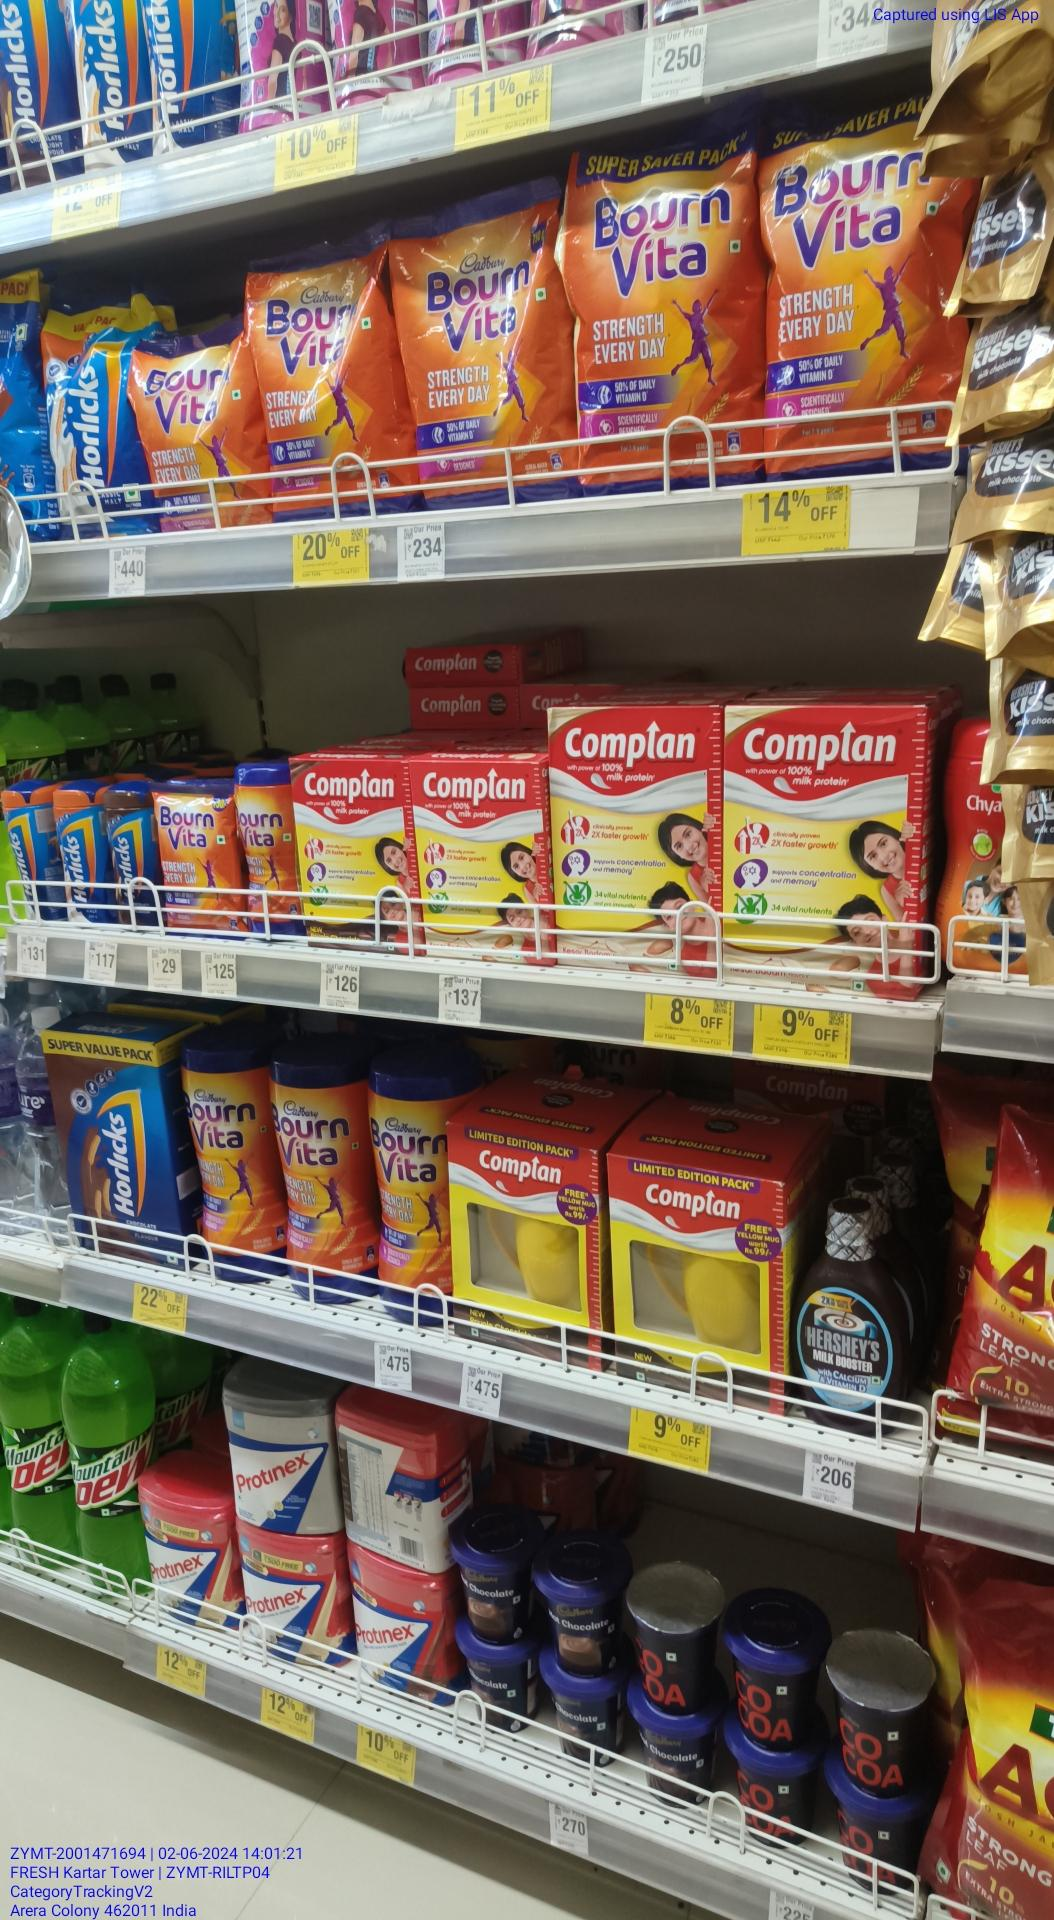PROTINEX_ORIGINAL_400_G_JAR: (227, 1396, 331, 1527)
PROTINEX_VANILLA_400_G_JAR: (239, 1526, 345, 1667), (147, 1498, 227, 1616)
